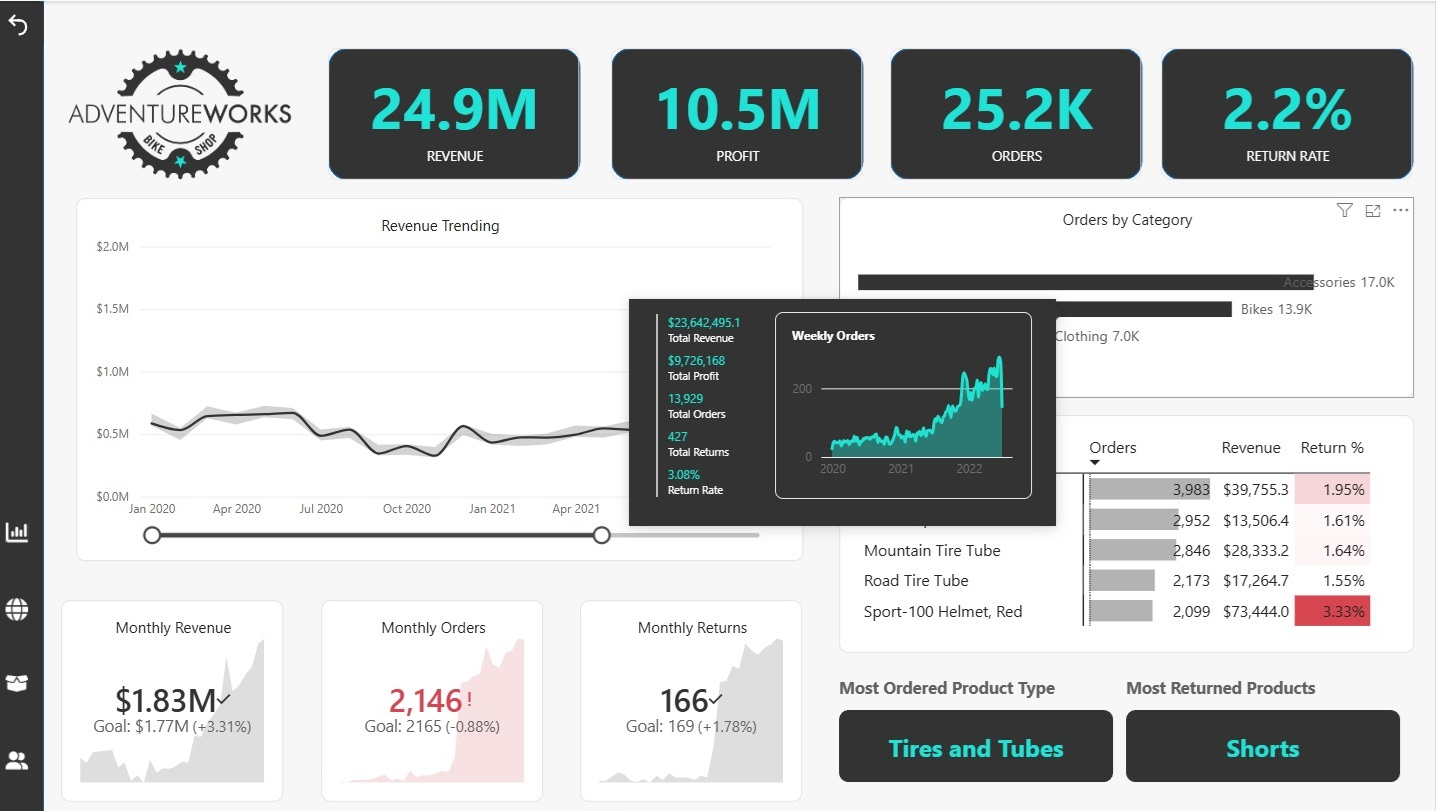

The page's visual inventory and layout, read from the dashboard file:
{"tool":"powerbi","page":{"name":"Exec Dash","canvas":[1280,720],"ordinal":0},"visuals":[{"type":"image","title":"AW Logo","box":[46.2,0,242.4,200.3],"z":0},{"type":"shape","title":"Left Nav Background","box":[0,0,46.2,720.1],"z":1000},{"type":"actionButton","box":[0,452.2,44.3,39],"z":1000,"group":"g2"},{"type":"group","id":"g1","title":"KPI Backgrounds","box":[297.9,41.6,962.6,117.4],"z":2000},{"type":"shape","box":[548.6,41.6,223.9,117.1],"z":2000,"group":"g1"},{"type":"actionButton","box":[0,654.4,44.3,39],"z":2000,"group":"g2"},{"type":"shape","box":[1036.5,41.6,223.9,117.1],"z":3000,"group":"g1"},{"type":"cardVisual","fields":{"Data":["Measure Table.TotalRevenue"]},"box":[297.9,41.7,223.9,117.1],"z":3000},{"type":"actionButton","box":[0,586.5,44.3,39],"z":3000,"group":"g2"},{"type":"shape","box":[796.1,41.6,223.9,117.1],"z":4000,"group":"g1"},{"type":"lineChart","title":"Revenue Trending","fields":{"Category":["Calendar Lookup.Start of Month"],"Y":["Measure Table.TotalRevenue"]},"box":[74.2,174.4,644.5,321.8],"z":4000},{"type":"actionButton","box":[0,520.1,44.3,39],"z":4000,"group":"g2"},{"type":"cardVisual","fields":{"Data":["Measure Table.ReturnRate"]},"box":[1036.5,41.7,223.9,117.1],"z":5000},{"type":"shape","box":[297.9,41.9,223.9,117.1],"z":5000,"group":"g1"},{"type":"kpi","title":"Monthly Revenue","fields":{"Goal":["Measure Table.Previous Month Revenue"],"Indicator":["Measure Table.TotalRevenue"],"TrendLine":["Calendar Lookup.Date Hierarchy.Start of Month"]},"box":[61.3,531.1,197.4,179],"z":6000},{"type":"cardVisual","fields":{"Data":["Measure Table.TotalOrders"]},"box":[796.1,41.7,223.9,117.1],"z":7000},{"type":"kpi","title":"Monthly Orders","fields":{"Goal":["Measure Table.Prev Month Orders"],"Indicator":["Measure Table.TotalOrders"],"TrendLine":["Calendar Lookup.Date Hierarchy.Start of Month"]},"box":[291.3,531.1,197.4,179],"z":8000},{"type":"cardVisual","fields":{"Data":["Measure Table.Total Profit"]},"box":[548.6,41.7,223.9,117.1],"z":9000},{"type":"kpi","title":"Monthly Returns","fields":{"Goal":["Measure Table.Prev Month Returns"],"Indicator":["Measure Table.TotalReturns"],"TrendLine":["Calendar Lookup.Date Hierarchy.Start of Month"]},"box":[521.3,531.1,197.4,179],"z":10000},{"type":"clusteredBarChart","title":"Orders by Category","fields":{"Series":["Product Categories Lookup.CategoryName"],"Y":["Measure Table.TotalOrders"]},"box":[750.9,174.1,509.7,178],"z":11000},{"type":"pivotTable","fields":{"Rows":["Product Lookup.ProductName"],"Values":["Measure Table.TotalOrders","Measure Table.TotalRevenue","Measure Table.ReturnRate"]},"box":[750.9,366.7,509.7,211.1],"z":12000},{"type":"cardVisual","fields":{"Data":["Min(Product Subcategories Lookup.SubcategoryName)"]},"box":[750.8,628.5,243.6,64.2],"z":13000},{"type":"textbox","box":[751,598.5,243,22.2],"z":14000},{"type":"cardVisual","fields":{"Data":["Min(Product Subcategories Lookup.SubcategoryName)"]},"box":[1005.4,628.5,243.6,64.2],"z":15000},{"type":"textbox","box":[1005.5,598.5,243.8,22.2],"z":16000},{"type":"actionButton","box":[0,0,46,42],"z":17000},{"type":"group","id":"g2","title":"Group 1","box":[0,452.2,44.3,241.2],"z":18000}]}

Visuals, with their boxes on the page's 1280x720 design canvas (x1, y1, x2, y2). These are canvas units, not pixel positions in the 1436x811 screenshot, which may show the page scaled, cropped or inside an application window:
"AW Logo" image: (left=46, top=0, right=289, bottom=200)
"Left Nav Background" shape: (left=0, top=0, right=46, bottom=720)
actionButton: (left=0, top=452, right=44, bottom=491)
"KPI Backgrounds" group: (left=298, top=42, right=1260, bottom=159)
shape: (left=549, top=42, right=772, bottom=159)
actionButton: (left=0, top=654, right=44, bottom=693)
shape: (left=1036, top=42, right=1260, bottom=159)
cardVisual - Measure Table.TotalRevenue: (left=298, top=42, right=522, bottom=159)
actionButton: (left=0, top=586, right=44, bottom=626)
shape: (left=796, top=42, right=1020, bottom=159)
"Revenue Trending" lineChart: (left=74, top=174, right=719, bottom=496)
actionButton: (left=0, top=520, right=44, bottom=559)
cardVisual - Measure Table.ReturnRate: (left=1036, top=42, right=1260, bottom=159)
shape: (left=298, top=42, right=522, bottom=159)
"Monthly Revenue" kpi: (left=61, top=531, right=259, bottom=710)
cardVisual - Measure Table.TotalOrders: (left=796, top=42, right=1020, bottom=159)
"Monthly Orders" kpi: (left=291, top=531, right=489, bottom=710)
cardVisual - Measure Table.Total Profit: (left=549, top=42, right=772, bottom=159)
"Monthly Returns" kpi: (left=521, top=531, right=719, bottom=710)
"Orders by Category" clusteredBarChart: (left=751, top=174, right=1261, bottom=352)
pivotTable - Product Lookup.ProductName x Measure Table.TotalOrders: (left=751, top=367, right=1261, bottom=578)
cardVisual - Min(Product Subcategories Lookup.SubcategoryName): (left=751, top=628, right=994, bottom=693)
textbox: (left=751, top=598, right=994, bottom=621)
cardVisual - Min(Product Subcategories Lookup.SubcategoryName): (left=1005, top=628, right=1249, bottom=693)
textbox: (left=1006, top=598, right=1249, bottom=621)
actionButton: (left=0, top=0, right=46, bottom=42)
"Group 1" group: (left=0, top=452, right=44, bottom=693)
